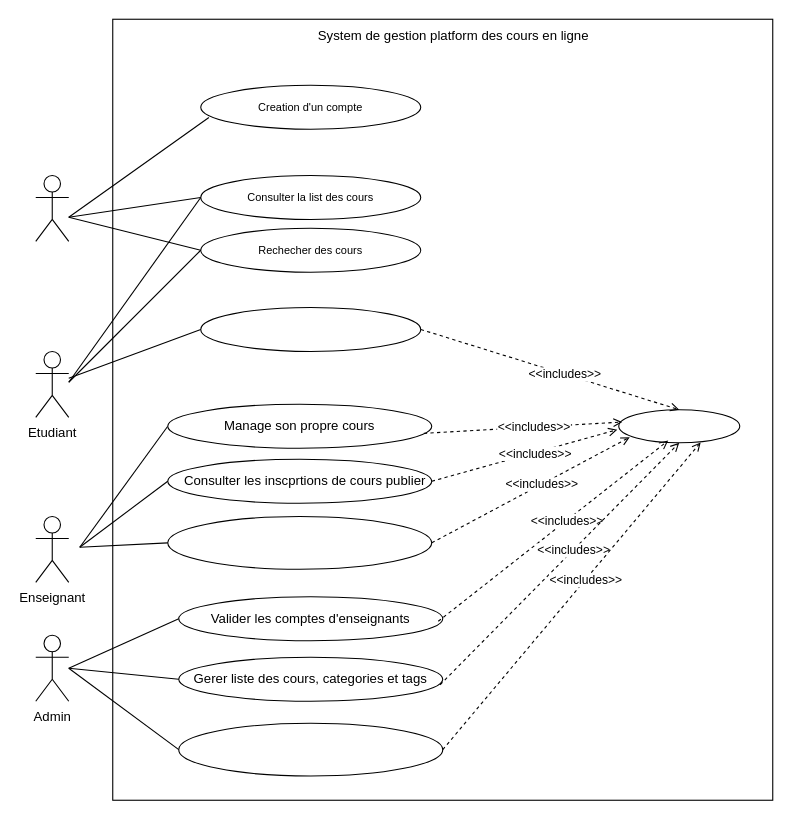
Image size: 792x820. Some labels were removed from this diagram. The centre of each missing label's shape, as x and y in pixels:
"Consulter leur list de cours" belongs at point (310, 328).
"Consulter paneaux de statistics des cours" belongs at point (299, 542).
"Consulter paneaux de statistics global" belongs at point (310, 749).
"S'authetifier" belongs at point (679, 426).
"Visitor" belongs at point (52, 207).
